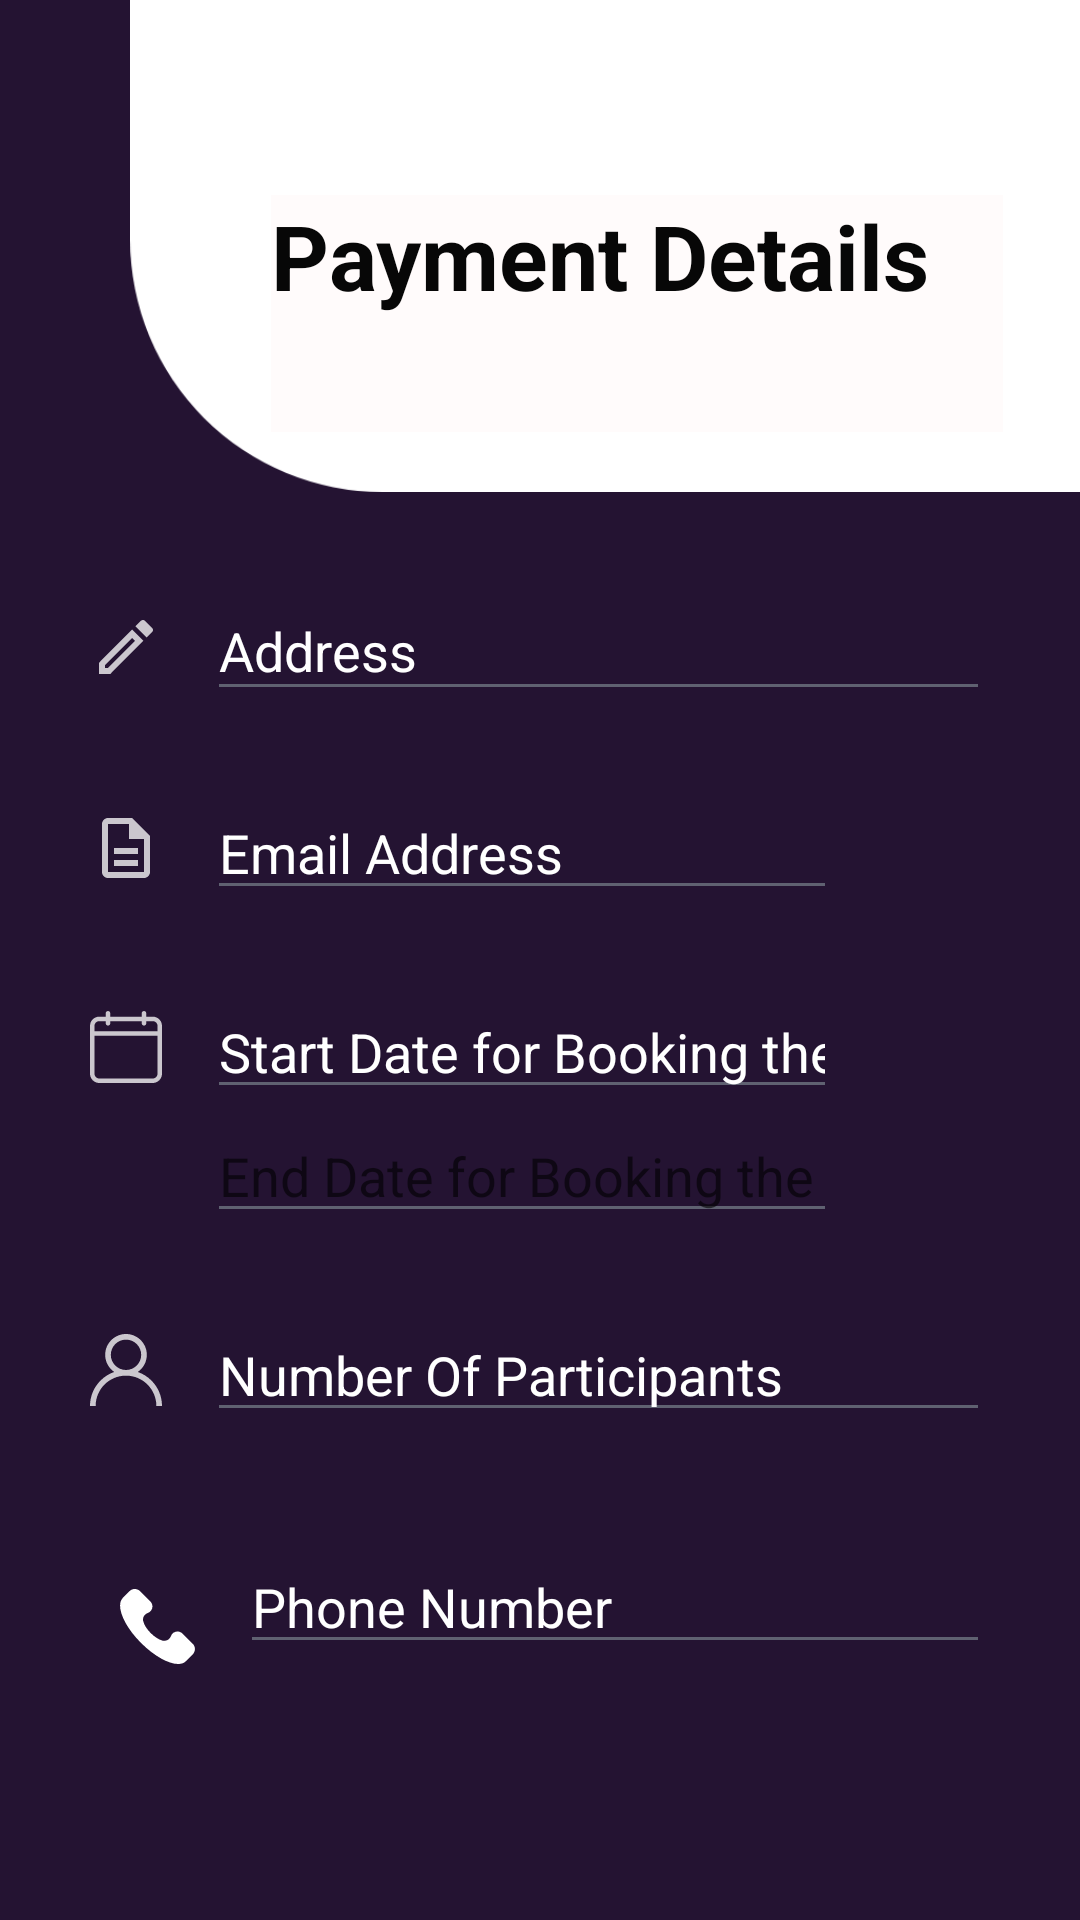

Icon click points for this 1080px x 1920px phone screenshot, format (x=x, y=y):
calendar: (x=126, y=1047)
description: (x=126, y=848)
edit: (x=126, y=647)
phone call: (x=157, y=1626)
user: (x=126, y=1370)
